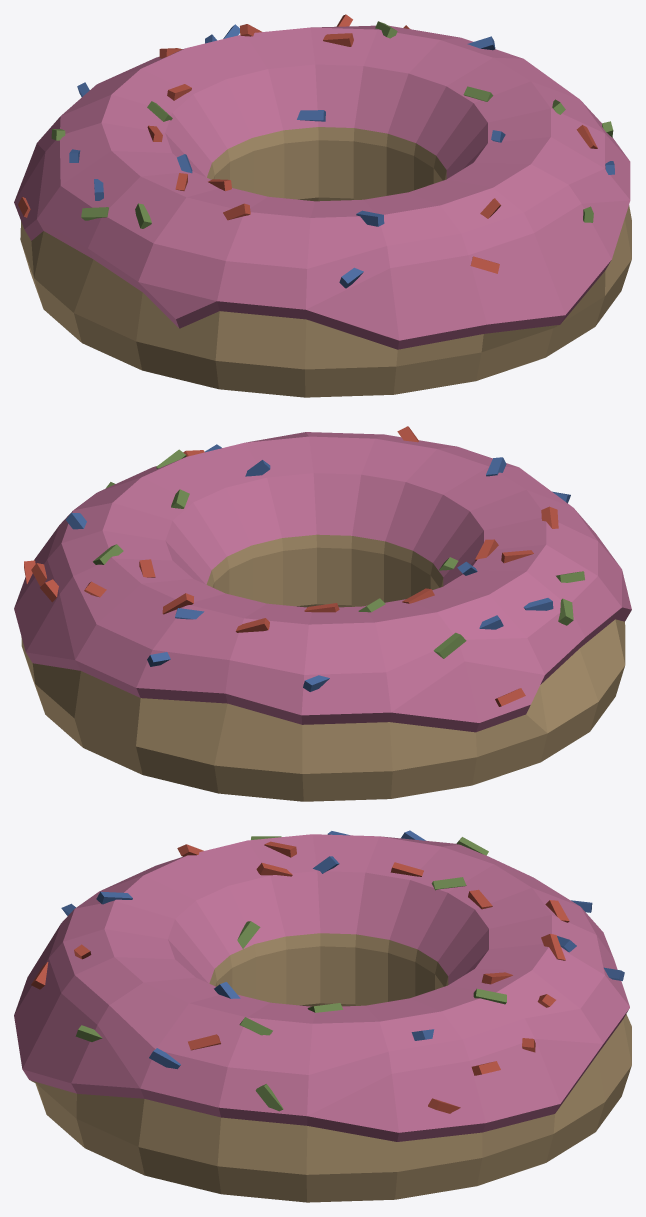
File: donut.glb
3 renders of one model, top to bottom at view 1: azimuth 30°, elevation 25°; view 2: azimuth 150°, elevation 25°; view 3: azimuth 270°, elevation 25°, orthographic.
Visible parts, largest first — view 1: Donut1; view 2: Donut1; view 3: Donut1.
Part boxes in pixels (left/top/right/bottom): Donut1: left=14, top=14, right=631, bottom=397; Donut1: left=14, top=426, right=631, bottom=801; Donut1: left=14, top=830, right=631, bottom=1202.
Size of the model in its own units: 0.8591 by 0.2914 by 0.8698.
